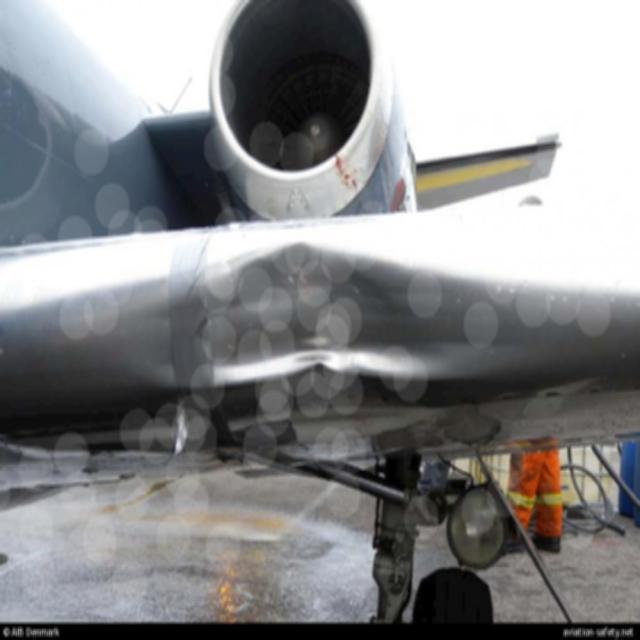dent: (155, 240, 531, 385)
